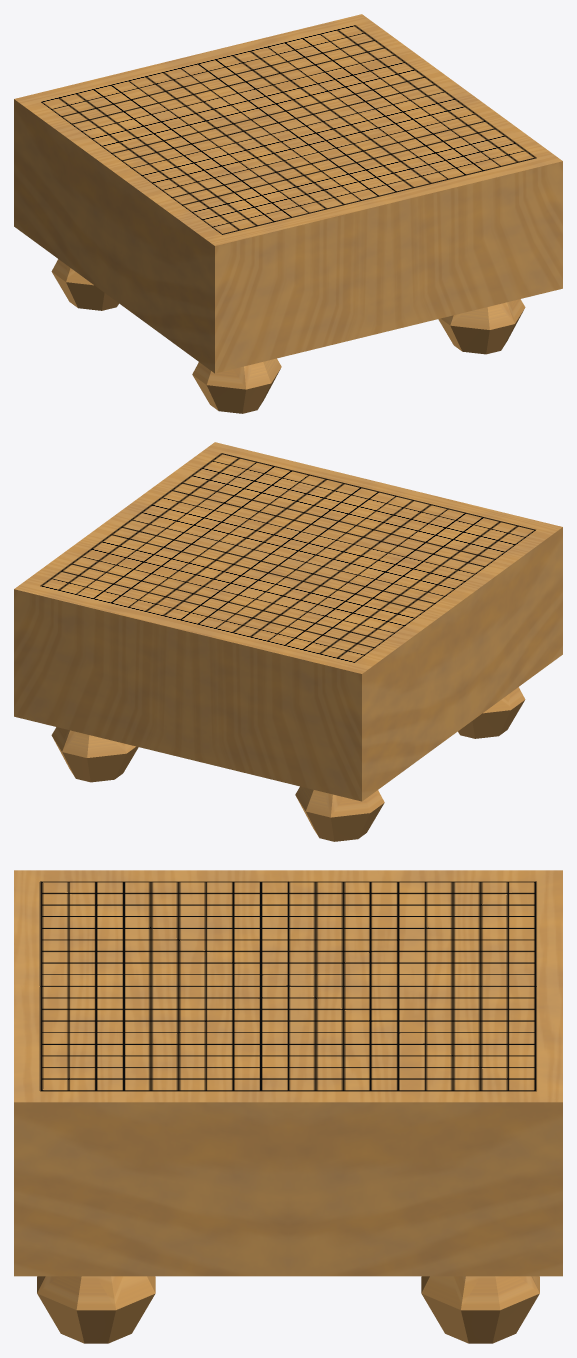
The model's file is goban.fbx.
The picture shows the model from 3 angles, top to bottom: view 1: azimuth 30°, elevation 25°; view 2: azimuth 150°, elevation 25°; view 3: azimuth 270°, elevation 25°; orthographic projection. The views are drawn at different scales.
Parts seen in each view (by area): view 1: goban; view 2: goban; view 3: goban.
Part boxes in pixels (x1=…): goban: x1=14, y1=14, x2=562, y2=413; goban: x1=14, y1=442, x2=562, y2=841; goban: x1=14, y1=870, x2=562, y2=1343.
Size of the model in its own units: 0.5 by 0.2625 by 0.5.
Materials: 1 (1 with a texture image).
